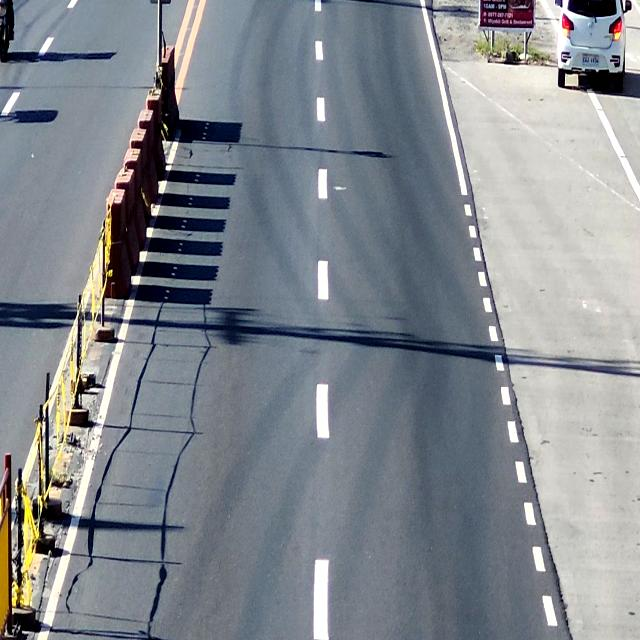Car: (555, 0, 626, 92)
